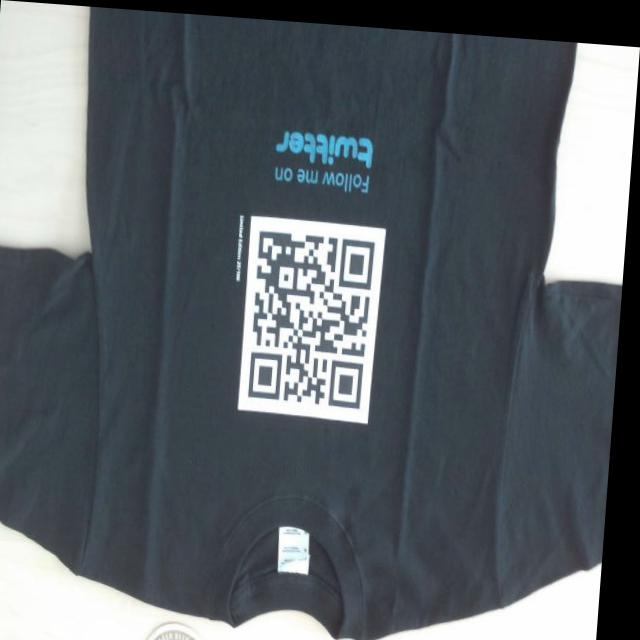qrcode: (253, 228, 378, 404)
